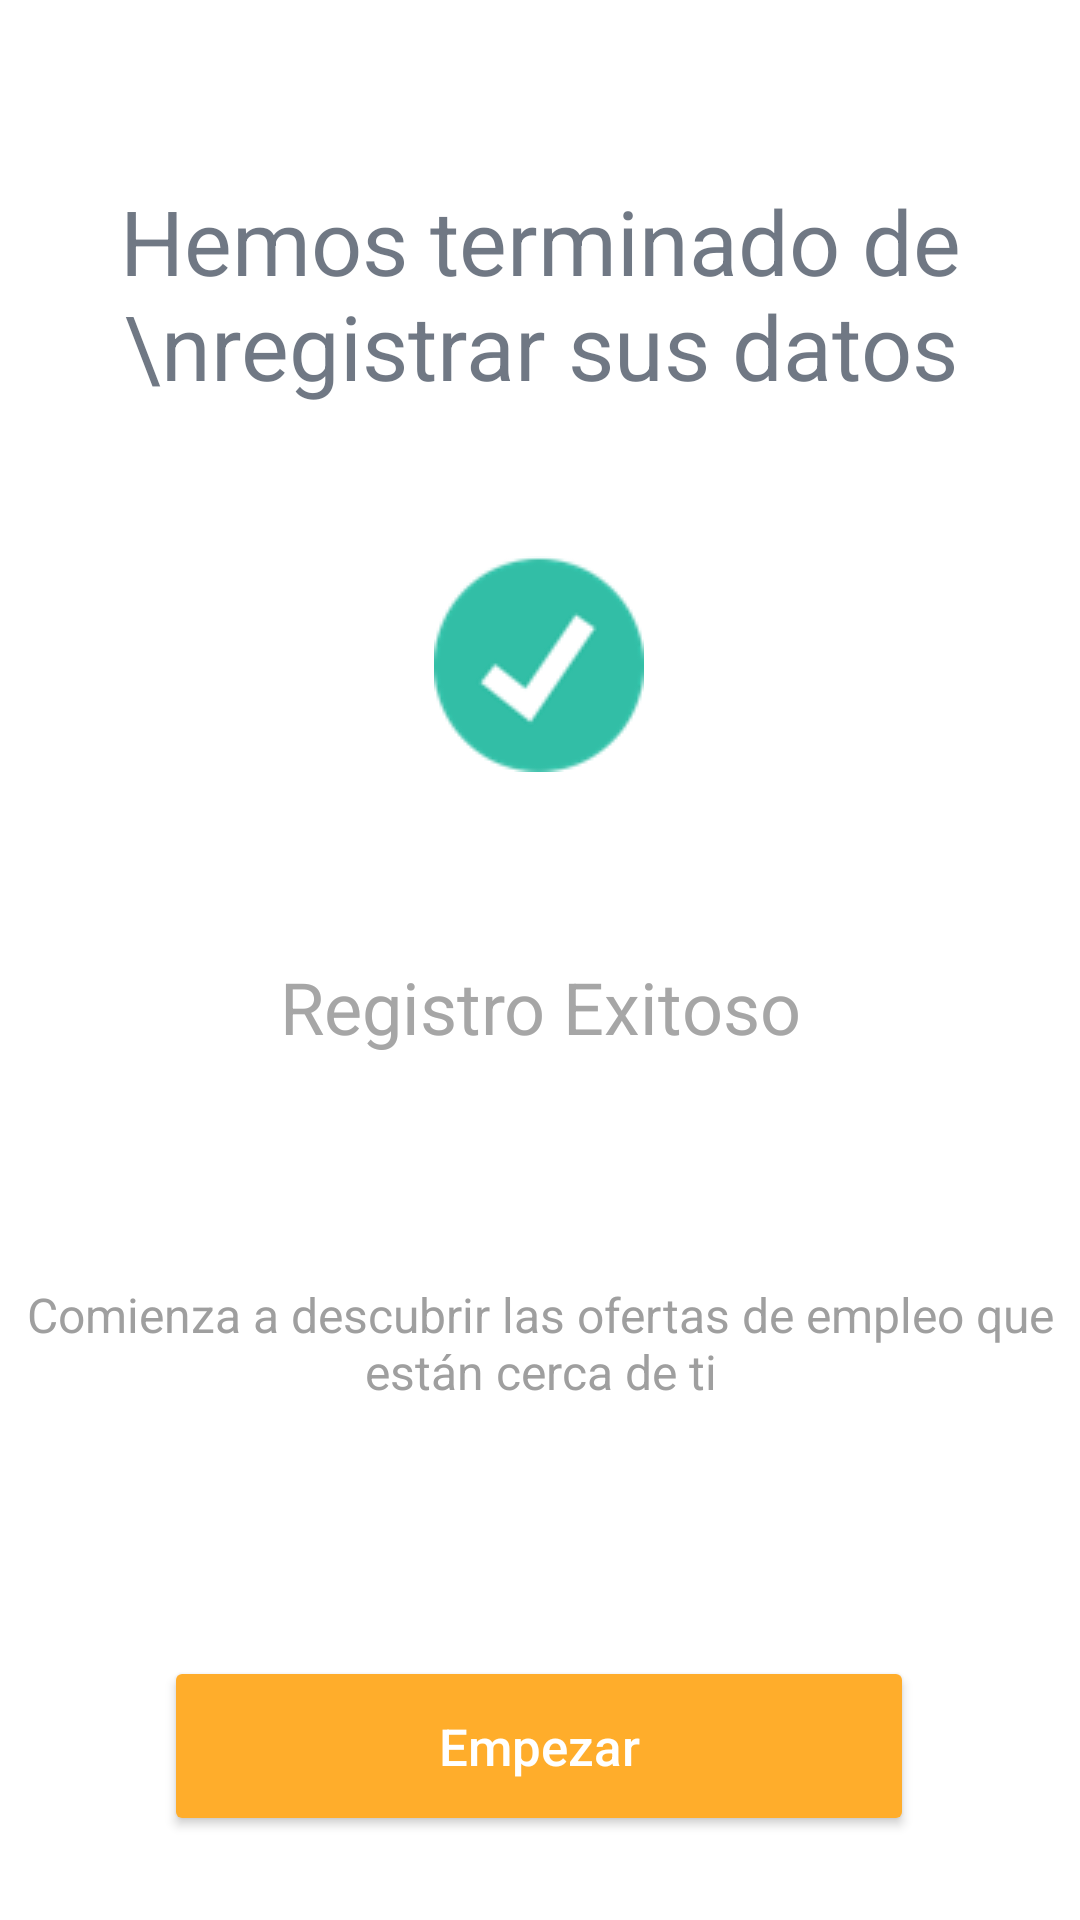

Icon click points for this 1080w x 1920h phone screenshot, format point (x, y):
success: point (539, 665)
